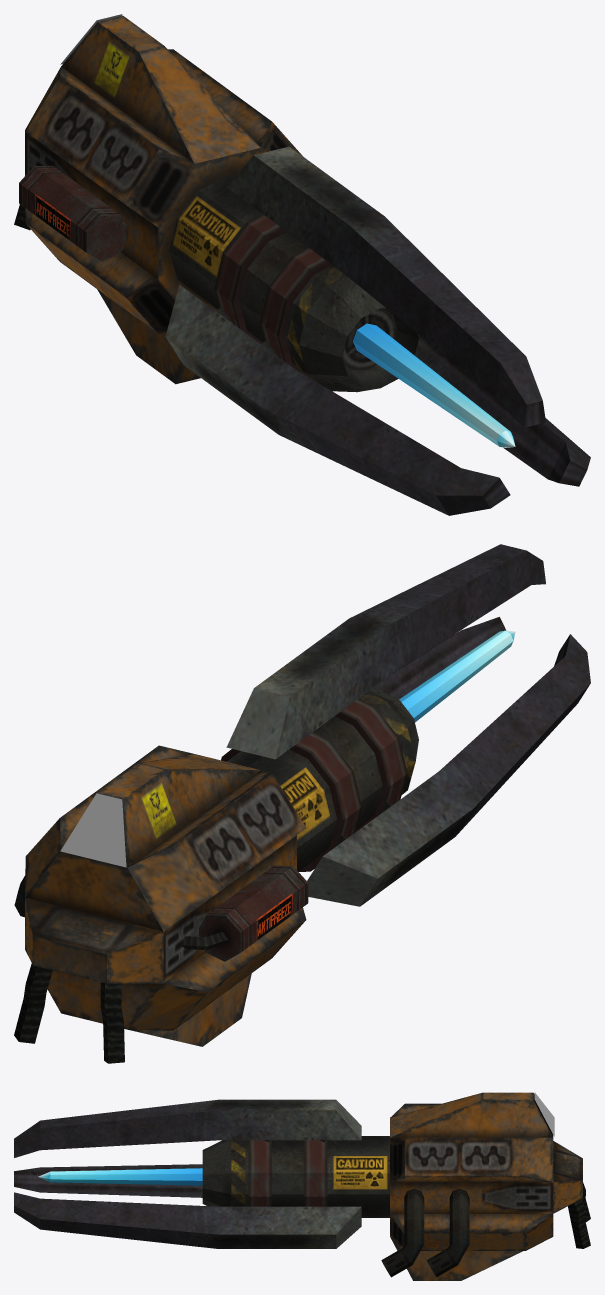
File: plasmacannon.fbx
The picture shows the model from 3 angles, top to bottom: view 1: azimuth 30°, elevation 25°; view 2: azimuth 150°, elevation 25°; view 3: azimuth 270°, elevation 25°; orthographic projection. The views are drawn at different scales.
Parts seen in each view (by area): view 1: plasma_cannon:plasmacannon_weapon_diffuse_bmp; view 2: plasma_cannon:plasmacannon_weapon_diffuse_bmp, plasma_cannon:plasmacannon_hud_bmp; view 3: plasma_cannon:plasmacannon_weapon_diffuse_bmp, plasma_cannon:plasmacannon_hud_bmp.
Part boxes in pixels (x1,y1,x2,y2): plasma_cannon:plasmacannon_weapon_diffuse_bmp: (14,16,590,515); plasma_cannon:plasmacannon_weapon_diffuse_bmp: (14,544,590,1063); plasma_cannon:plasmacannon_hud_bmp: (60,793,126,867); plasma_cannon:plasmacannon_weapon_diffuse_bmp: (14,1092,590,1280); plasma_cannon:plasmacannon_hud_bmp: (534,1092,554,1136).
Size of the model in its own units: 15.88 by 15.63 by 46.66.
2 materials, 1 textured.
